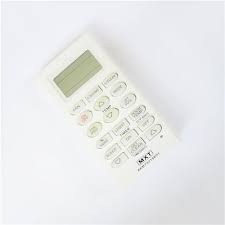remote control: (33, 31, 187, 191)
